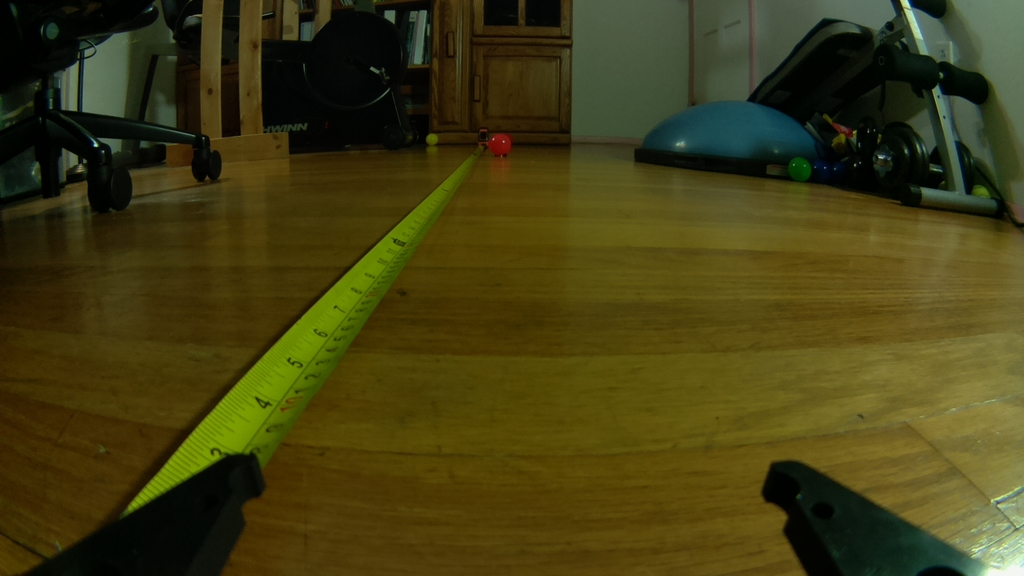ball: (486, 131, 511, 156)
